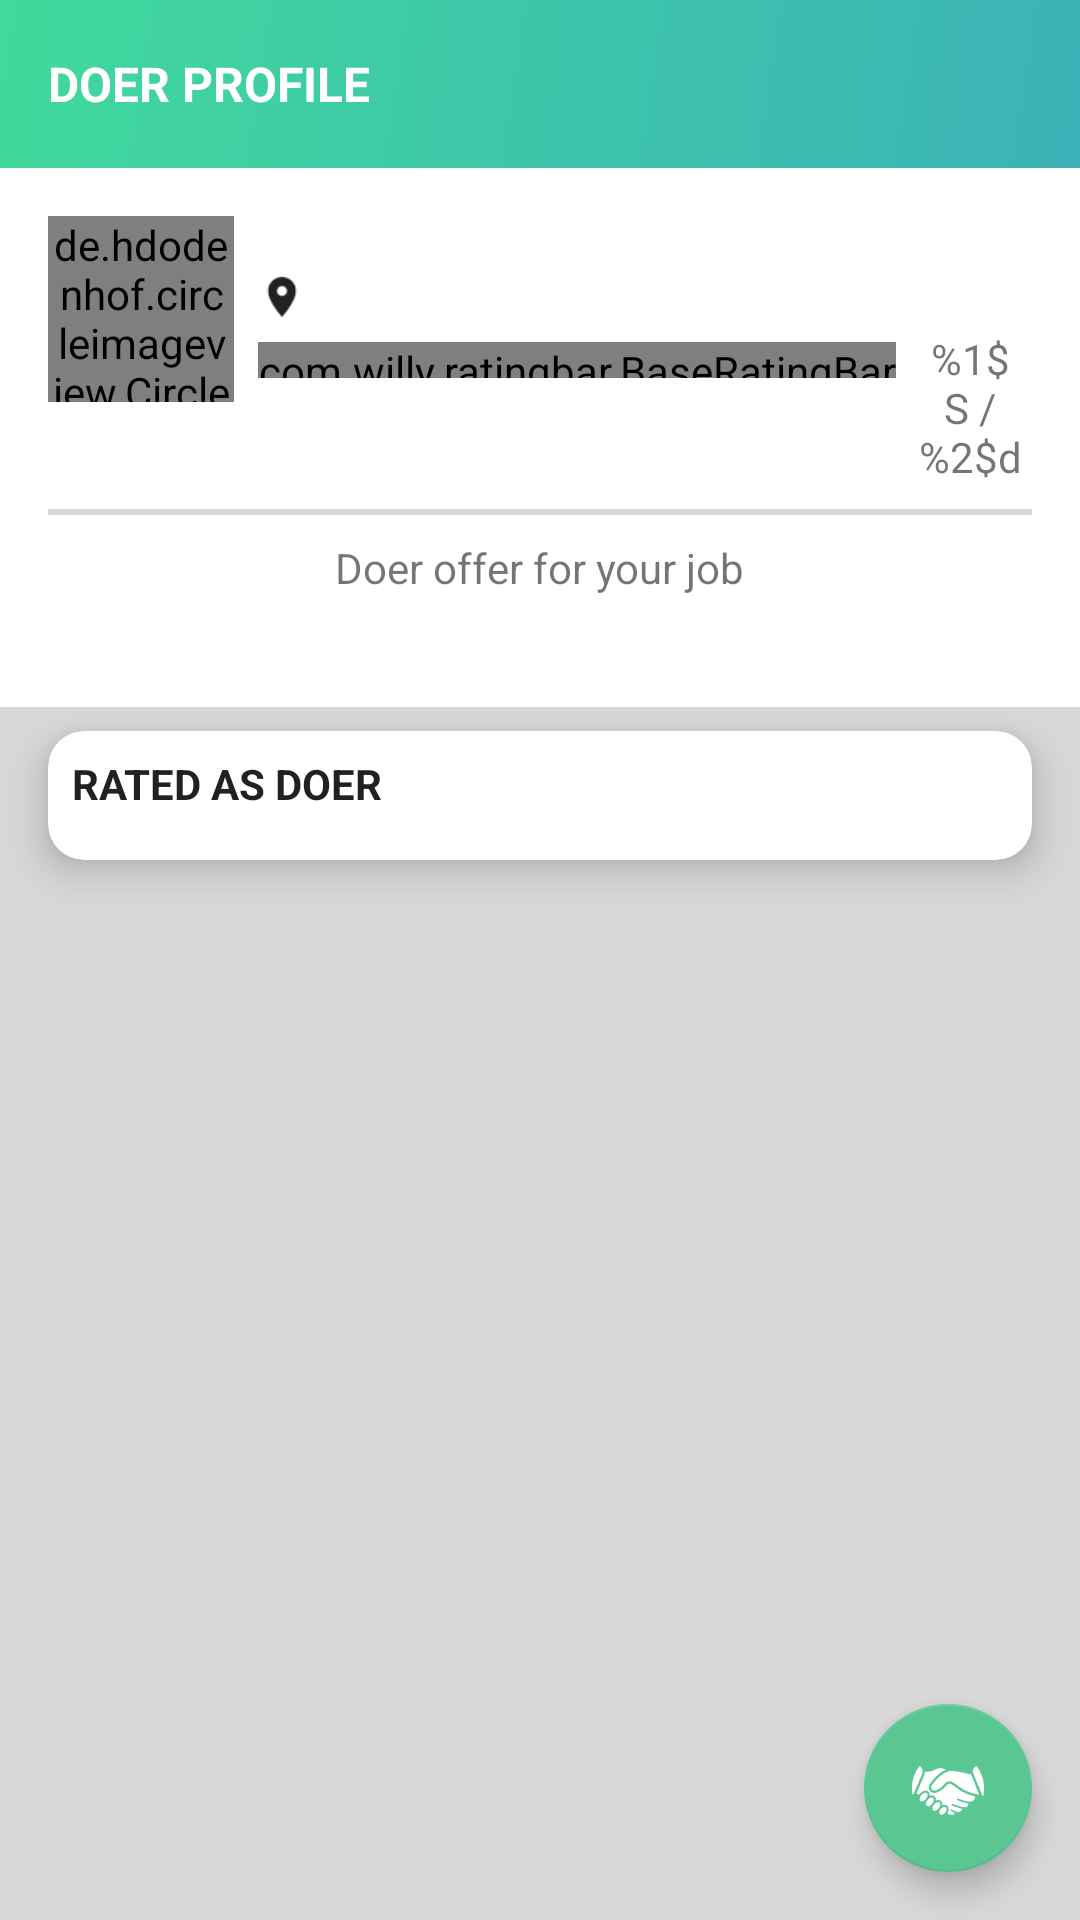

Icon bounding boxes for this 1080 × 1920 phone screenshot, format rect(x1, y1, x2, y2):
jobdeal shake: rect(864, 1704, 1032, 1872)
place: rect(267, 276, 297, 317)
